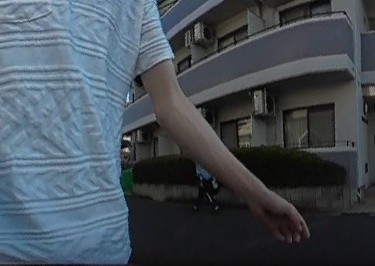person: (192, 161, 223, 212)
